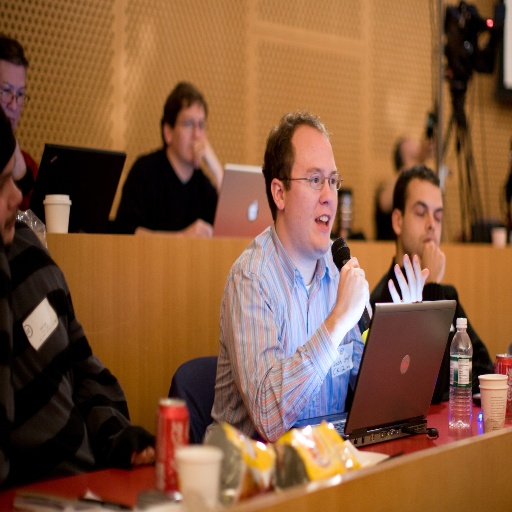hand: (333, 254, 370, 332), (395, 262, 443, 307), (187, 131, 219, 179), (420, 239, 446, 285), (179, 218, 214, 237), (129, 447, 158, 467)
